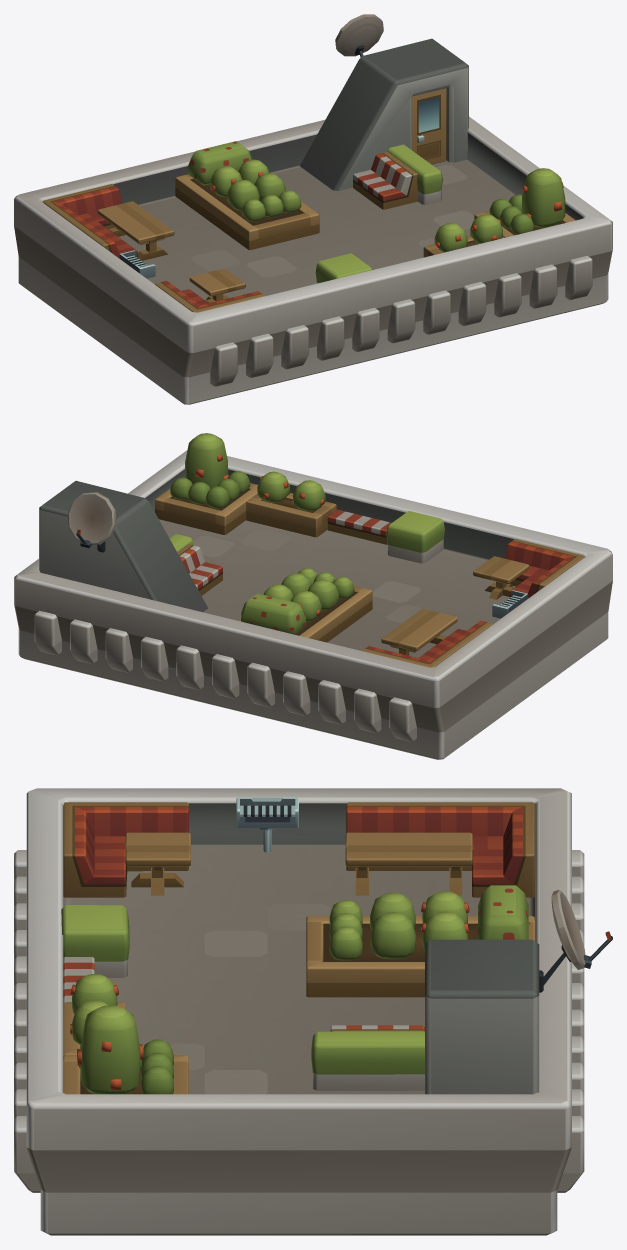
The model's file is appartment_type1_roof_type2_x6_deco.fbx.
3 views of the same model, one above another, from view 1: azimuth 30°, elevation 25°; view 2: azimuth 150°, elevation 25°; view 3: azimuth 270°, elevation 25° (orthographic). The views are drawn at different scales.
Parts seen in each view (by area): view 1: appartment_type1_roof_type2_x6_deco, door_wood_rooftop_doorway; view 2: appartment_type1_roof_type2_x6_deco; view 3: appartment_type1_roof_type2_x6_deco.
Part boxes in pixels (left/top/right/bottom): appartment_type1_roof_type2_x6_deco: left=14, top=14, right=612, bottom=404; door_wood_rooftop_doorway: left=412, top=88, right=446, bottom=164; appartment_type1_roof_type2_x6_deco: left=14, top=433, right=612, bottom=759; appartment_type1_roof_type2_x6_deco: left=14, top=788, right=612, bottom=1235.
Size of the model in its own units: 1200 by 499 by 953.
